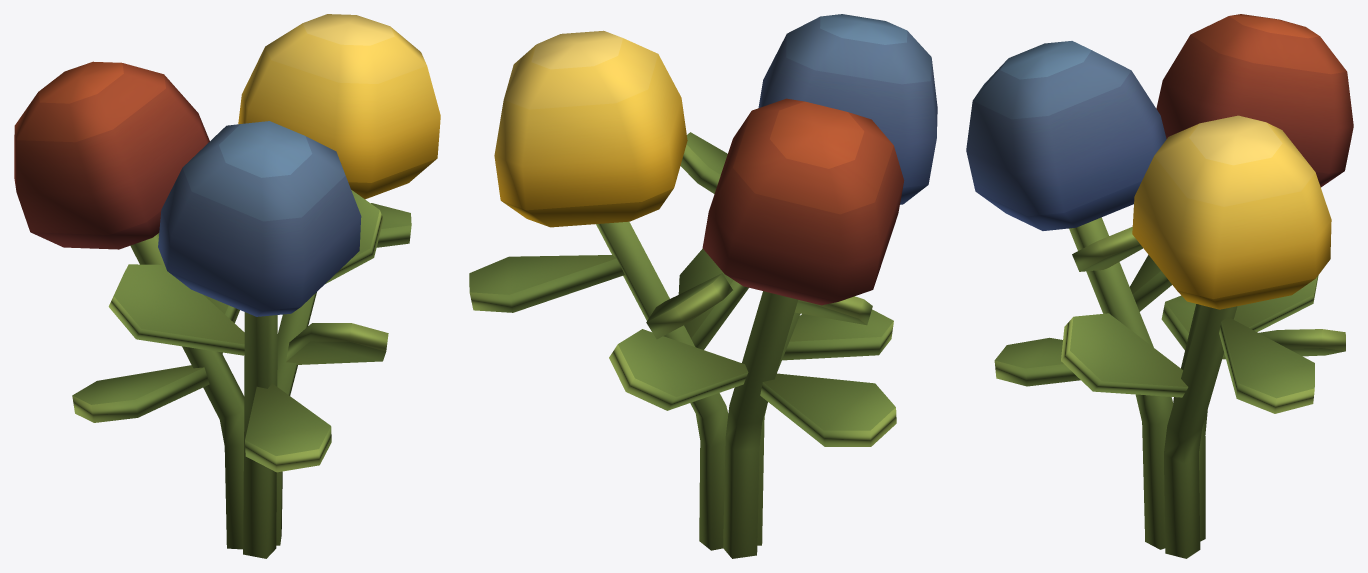
Rendered from flower_bunch_2_all_colours.fbx.
3 renders of one model, left to right at view 1: azimuth 30°, elevation 25°; view 2: azimuth 150°, elevation 25°; view 3: azimuth 270°, elevation 25°, orthographic. The views are drawn at different scales.
Parts seen in each view (by area): view 1: flower_bunch_2_all_colours; view 2: flower_bunch_2_all_colours; view 3: flower_bunch_2_all_colours.
Part boxes in pixels (<box>): flower_bunch_2_all_colours: <box>14,14,440,558</box>; flower_bunch_2_all_colours: <box>469,14,937,558</box>; flower_bunch_2_all_colours: <box>966,14,1353,558</box>.
Size of the model in its own units: 89.78 by 103 by 76.83.
